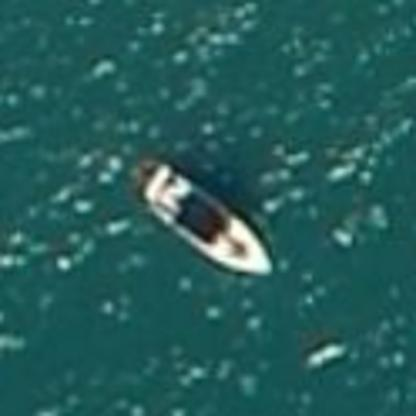ship: (119, 148, 287, 290)
